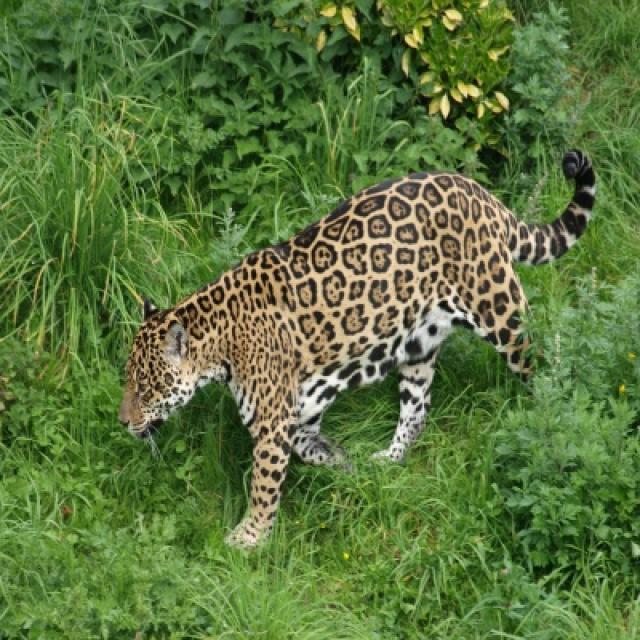Jaguar: (118, 150, 598, 550)
